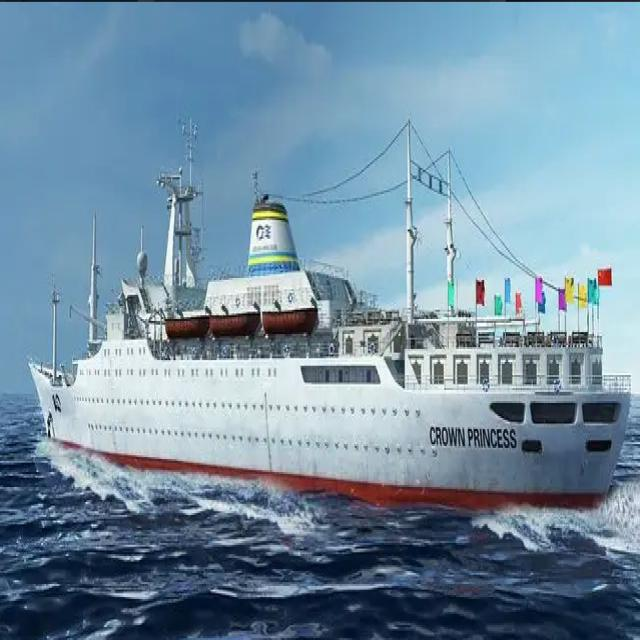navalvessels: (19, 117, 633, 521)
